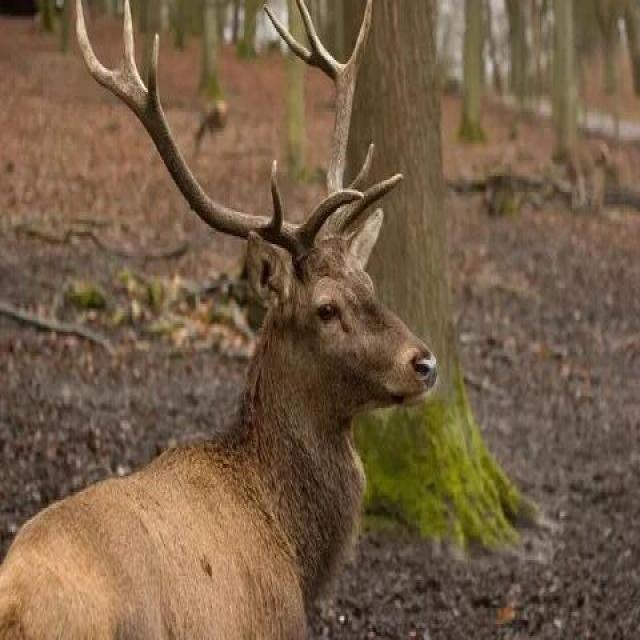deer: (182, 125, 515, 502)
